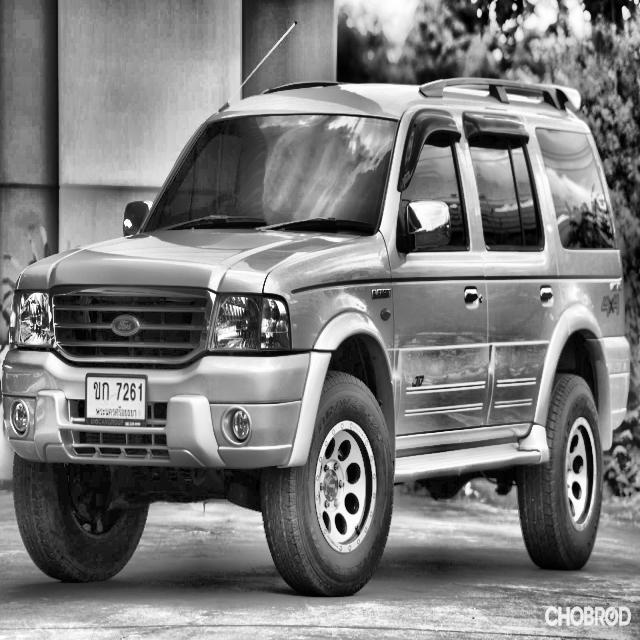license-plate: (83, 368, 149, 429)
